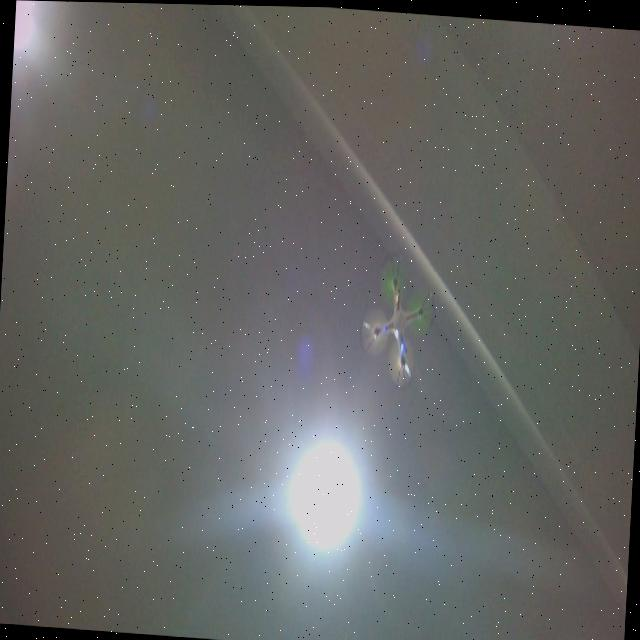drone: (354, 242, 442, 394)
